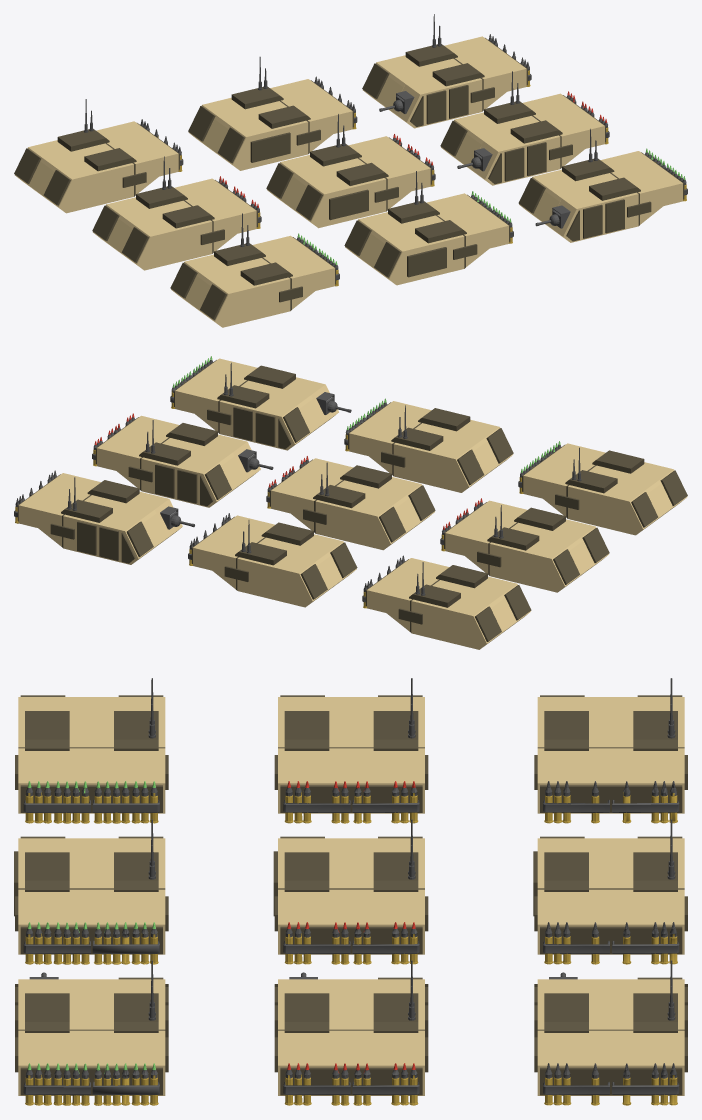
Rendered from desert_boost_ammo_tier1-3.fbx.
3 views of the same model, one above another, from view 1: azimuth 30°, elevation 25°; view 2: azimuth 150°, elevation 25°; view 3: azimuth 270°, elevation 25° (orthographic). The views are drawn at different scales.
Parts seen in each view (by area): view 1: head_3_tier3, head_2_tier3, head1_tier3, head_3_tier2, head1_tier2, head_2_tier2, head_3_tier1, head_2_tier1, head1_tier1; view 2: head_3_tier3, head1_tier3, head_2_tier3, head_3_tier2, head_3_tier1, head_2_tier2, head1_tier2, head1_tier1, head_2_tier1; view 3: head_3_tier3, head_2_tier3, head_3_tier2, head1_tier3, head_2_tier2, head_3_tier1, head_2_tier1, head1_tier2, head1_tier1.
Boxes of the visible parts, x1,y1,x2,y2 form: head_3_tier3: [518, 128, 687, 242]; head_2_tier3: [344, 171, 513, 285]; head1_tier3: [170, 213, 339, 327]; head_3_tier2: [440, 71, 609, 185]; head1_tier2: [92, 156, 261, 270]; head_2_tier2: [266, 114, 435, 228]; head_3_tier1: [362, 14, 531, 128]; head_2_tier1: [188, 56, 357, 170]; head1_tier1: [14, 99, 183, 213]; head_3_tier3: [170, 356, 351, 450]; head1_tier3: [518, 441, 687, 535]; head_2_tier3: [344, 398, 513, 492]; head_3_tier2: [92, 413, 273, 507]; head_3_tier1: [14, 470, 194, 564]; head_2_tier2: [266, 456, 435, 550]; head1_tier2: [440, 498, 609, 592]; head1_tier1: [362, 555, 531, 649]; head_2_tier1: [188, 513, 357, 607]; head_3_tier3: [15, 960, 168, 1105]; head_2_tier3: [14, 819, 168, 964]; head_3_tier2: [274, 960, 428, 1105]; head1_tier3: [15, 678, 168, 823]; head_2_tier2: [273, 819, 428, 964]; head_3_tier1: [534, 960, 687, 1105]; head_2_tier1: [533, 819, 687, 964]; head1_tier2: [274, 678, 428, 823]; head1_tier1: [534, 678, 687, 823].
Size of the model in its own units: 2464 by 347 by 1817.
